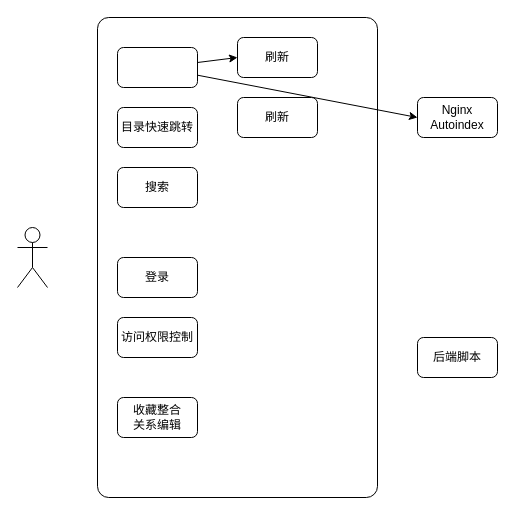
Image size: 515x515. Some labels were removed from this diagram. The shapes that lost their labels are listed below. From the top down, each one's box as (x1, y1, x2, y2) in pixels, then its label:
(116, 46, 198, 88): 内容查询下载
(16, 226, 48, 288): User
